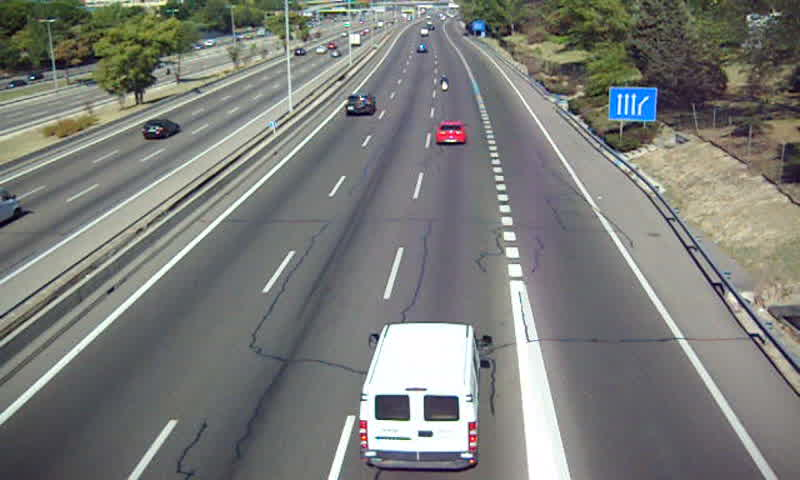car: (344, 94, 376, 116), (437, 121, 467, 144)
motorcycle: (438, 74, 451, 91)
van: (362, 325, 479, 469)
